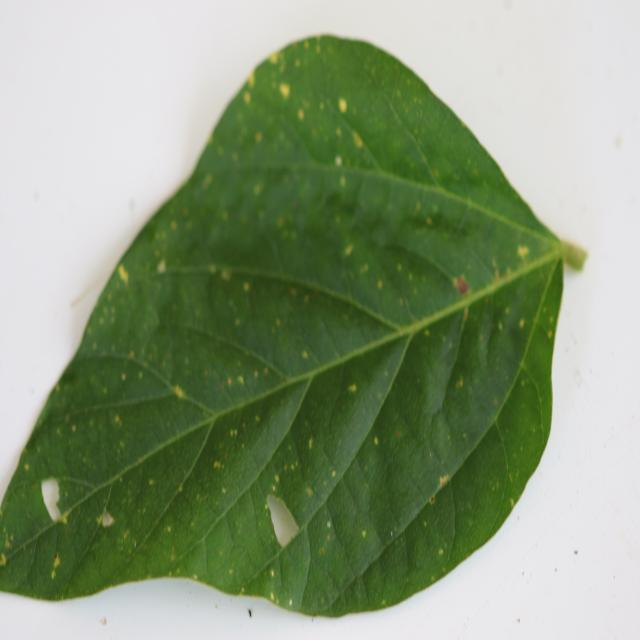Soybean: (0, 35, 587, 621)
downey_mildew: (43, 247, 535, 514), (34, 392, 214, 545), (174, 262, 408, 353), (435, 372, 537, 575), (249, 299, 438, 397), (475, 255, 559, 469), (190, 378, 313, 515), (205, 160, 472, 218), (392, 250, 561, 339), (150, 323, 304, 413), (287, 542, 465, 617), (213, 497, 325, 606), (197, 166, 324, 259), (421, 246, 505, 378), (414, 188, 560, 260), (317, 450, 391, 592), (31, 564, 255, 607), (1, 481, 104, 573), (364, 65, 443, 181), (355, 233, 465, 315), (78, 274, 165, 369), (144, 260, 349, 292), (312, 75, 384, 166), (67, 474, 119, 583), (111, 352, 200, 415), (67, 243, 147, 312), (503, 234, 588, 298), (342, 175, 420, 237), (530, 258, 563, 387), (23, 516, 75, 593), (178, 585, 301, 616), (457, 236, 507, 293), (154, 260, 234, 280), (413, 206, 463, 235), (73, 272, 113, 308), (100, 480, 114, 526)
